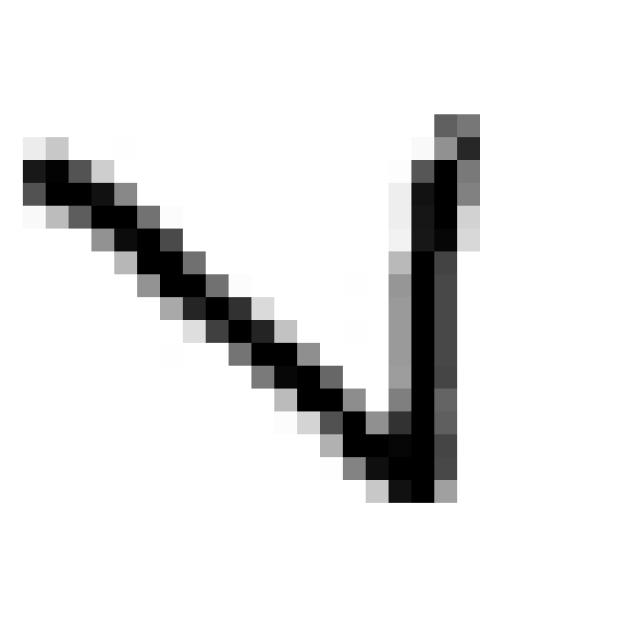7 -seven-: (9, 98, 497, 525)
